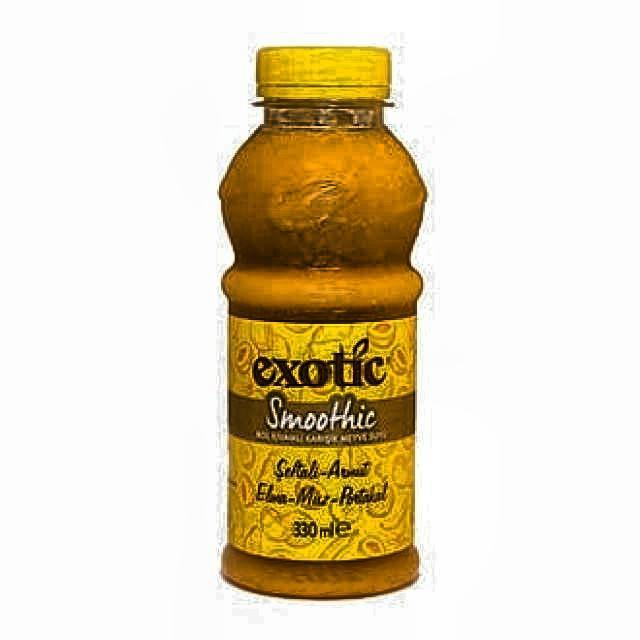plastic: (217, 45, 428, 603)
